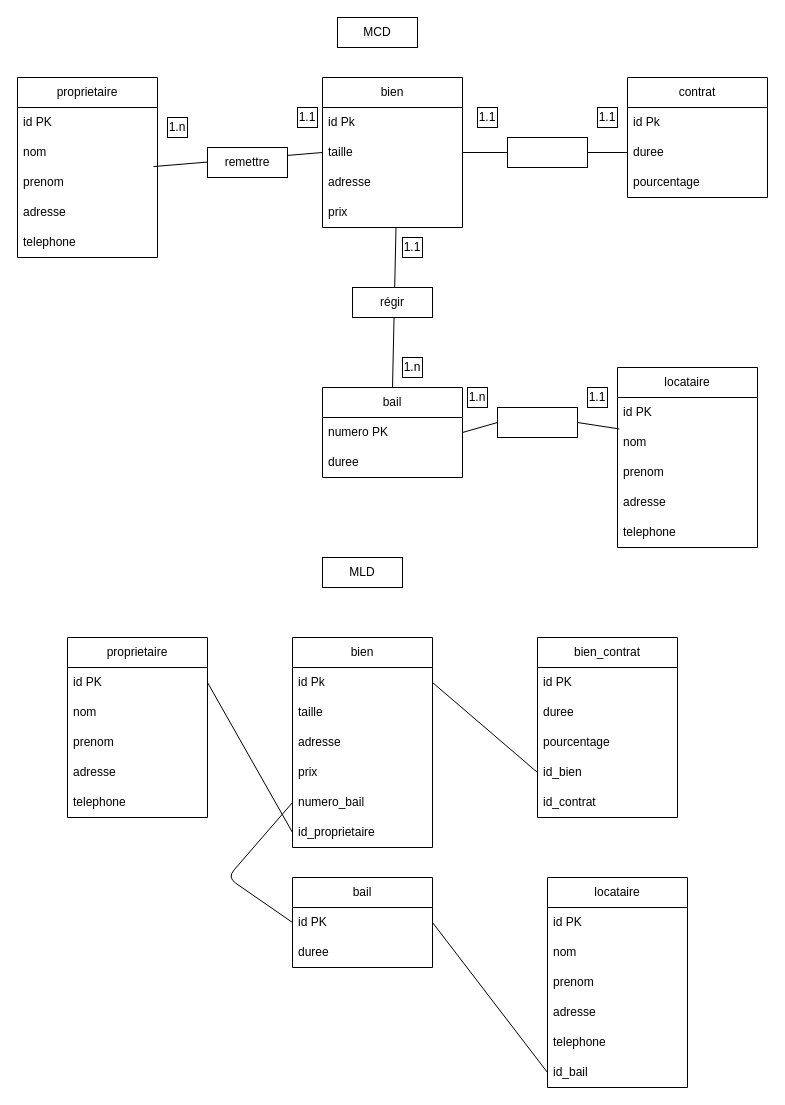
Image size: 785x1105. Some labels were removed from this diagram. The centre of each missing label's shape, as x and y in pixels:
"régleme nter" belongs at pixel 547 152.
"signer" belongs at pixel 537 422.
